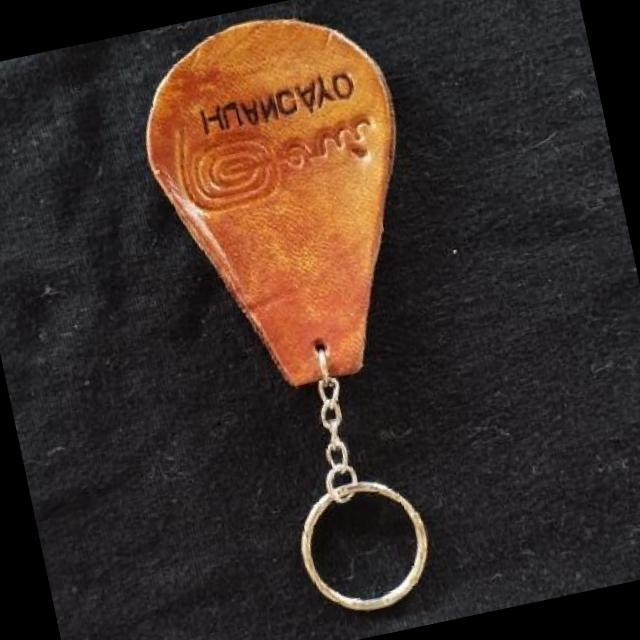Llavero: (121, 0, 448, 411)
